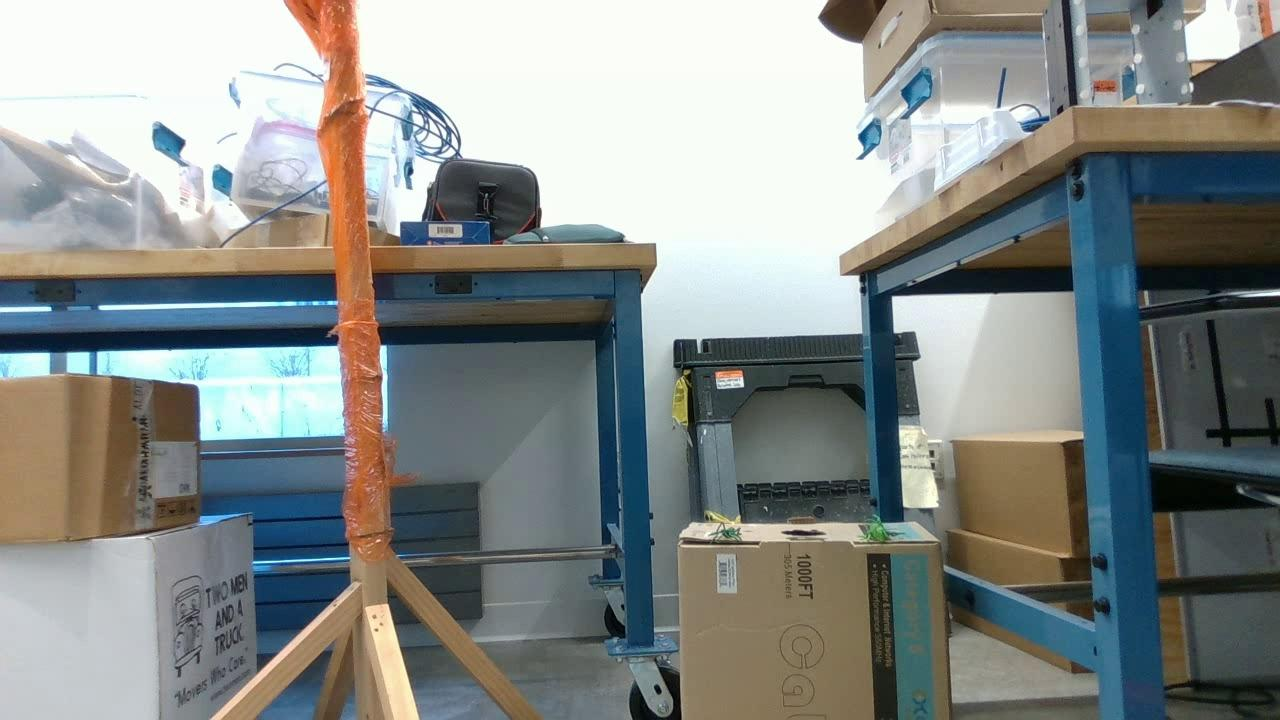grasshopper: (860, 515, 889, 540)
